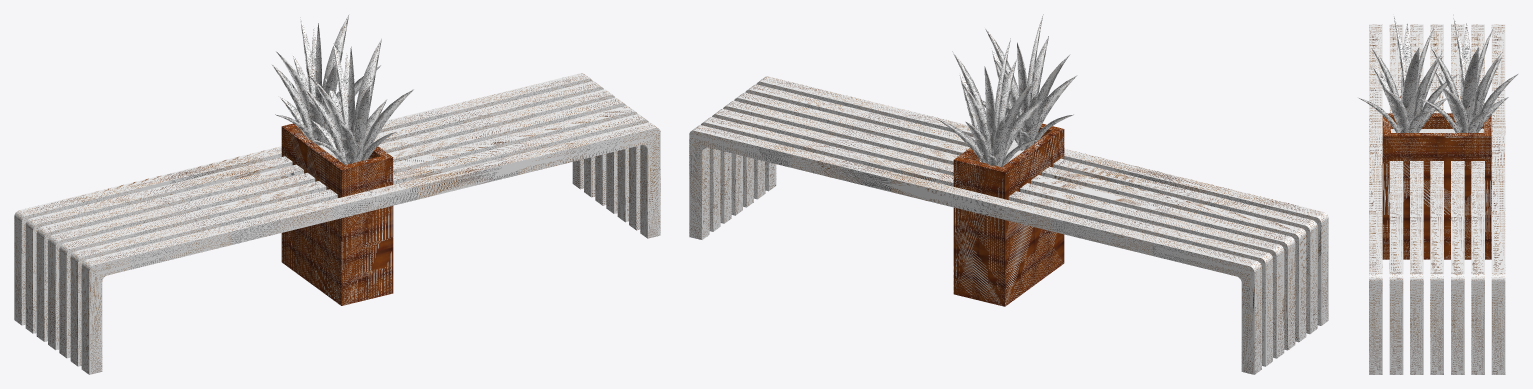
3 renders of one model, left to right at view 1: azimuth 30°, elevation 25°; view 2: azimuth 150°, elevation 25°; view 3: azimuth 270°, elevation 25°, orthographic. The views are drawn at different scales.
Visible parts, largest first — view 1: mesh3_mesh3-geometry, mesh4_mesh4-geometry, mesh2_mesh2-geometry, mesh1_mesh1-geometry, mesh5_mesh5-geometry, mesh6_mesh6-geometry; view 2: mesh3_mesh3-geometry, mesh4_mesh4-geometry, mesh2_mesh2-geometry, mesh1_mesh1-geometry, mesh5_mesh5-geometry, mesh6_mesh6-geometry; view 3: mesh4_mesh4-geometry, mesh1_mesh1-geometry, mesh6_mesh6-geometry, mesh5_mesh5-geometry, mesh3_mesh3-geometry, mesh2_mesh2-geometry, mesh7_mesh7-geometry.
Boxes of the visible parts, box(x1,y1,x2,y2) form: mesh3_mesh3-geometry: box(25, 156, 337, 366); mesh4_mesh4-geometry: box(373, 81, 648, 230); mesh2_mesh2-geometry: box(14, 146, 374, 374); mesh1_mesh1-geometry: box(281, 123, 393, 305); mesh5_mesh5-geometry: box(368, 73, 660, 238); mesh6_mesh6-geometry: box(271, 15, 413, 164); mesh3_mesh3-geometry: box(1008, 158, 1317, 366); mesh4_mesh4-geometry: box(701, 84, 975, 231); mesh2_mesh2-geometry: box(972, 148, 1328, 374); mesh1_mesh1-geometry: box(953, 123, 1064, 306); mesh5_mesh5-geometry: box(689, 76, 978, 239); mesh6_mesh6-geometry: box(937, 14, 1076, 167); mesh4_mesh4-geometry: box(1389, 161, 1484, 374); mesh1_mesh1-geometry: box(1382, 113, 1491, 259); mesh6_mesh6-geometry: box(1358, 15, 1517, 132); mesh5_mesh5-geometry: box(1369, 149, 1505, 374); mesh3_mesh3-geometry: box(1389, 24, 1484, 113); mesh2_mesh2-geometry: box(1369, 24, 1505, 149); mesh7_mesh7-geometry: box(1391, 129, 1483, 132).
Bounding box in the file's own units: 0.894 × 0.3778 × 0.2408.
